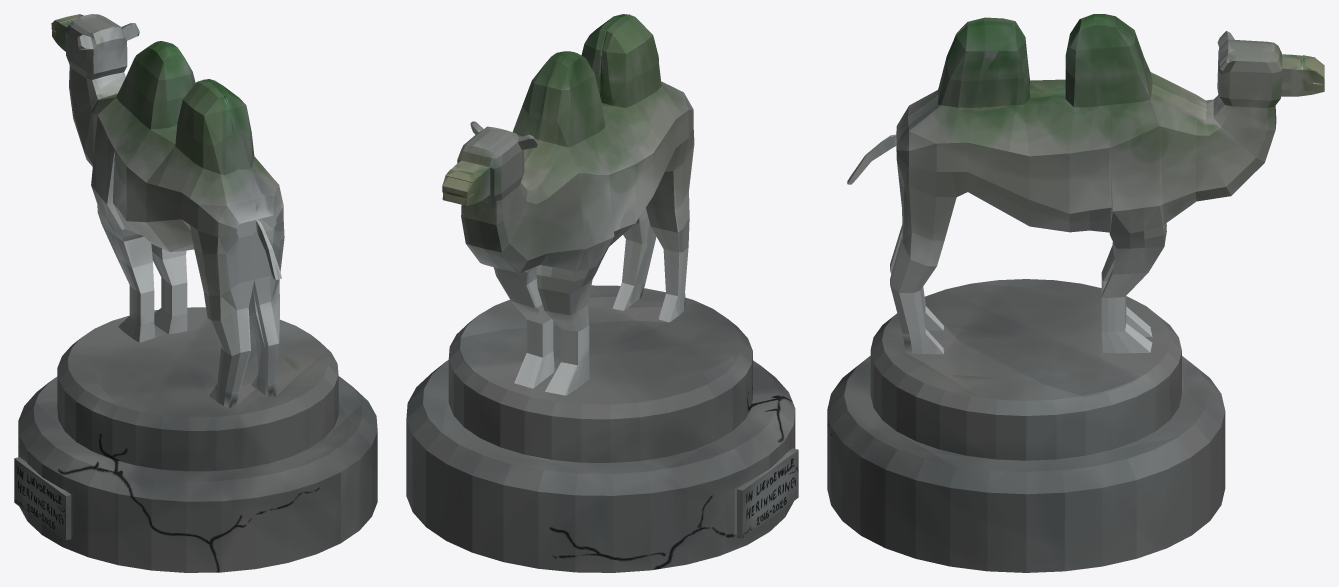
File: camelStatue.fbx
The picture shows the model from 3 angles, left to right: view 1: azimuth 30°, elevation 25°; view 2: azimuth 150°, elevation 25°; view 3: azimuth 270°, elevation 25°; orthographic projection. The views are drawn at different scales.
Parts seen in each view (by area): view 1: Cube; view 2: Cube; view 3: Cube.
Part boxes in pixels (left/top/right/bottom): Cube: left=14, top=14, right=377, bottom=572; Cube: left=406, top=14, right=798, bottom=572; Cube: left=827, top=14, right=1324, bottom=572.
Bounding box in the file's own units: 300 × 391 × 373.
